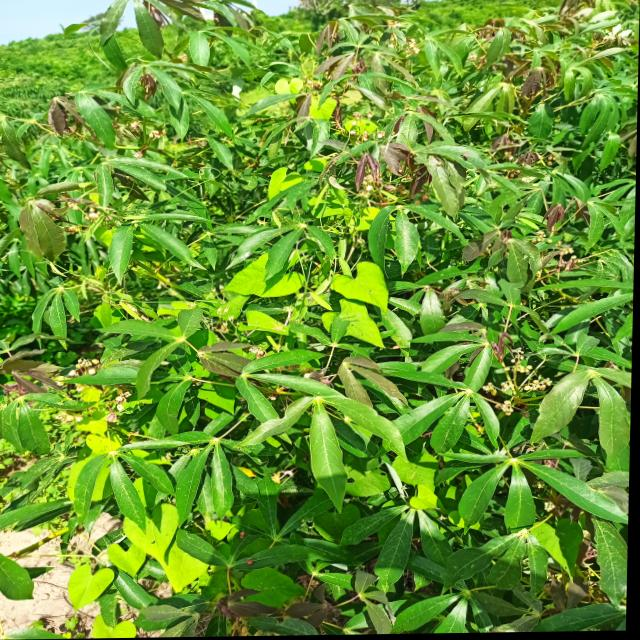Maleza: (229, 247, 304, 303), (521, 516, 588, 576), (329, 266, 398, 312), (121, 515, 178, 561), (98, 532, 159, 572), (73, 567, 120, 610), (83, 419, 124, 457), (334, 200, 376, 233), (307, 92, 343, 124), (269, 167, 304, 198)
Mosca: (239, 465, 263, 484)
